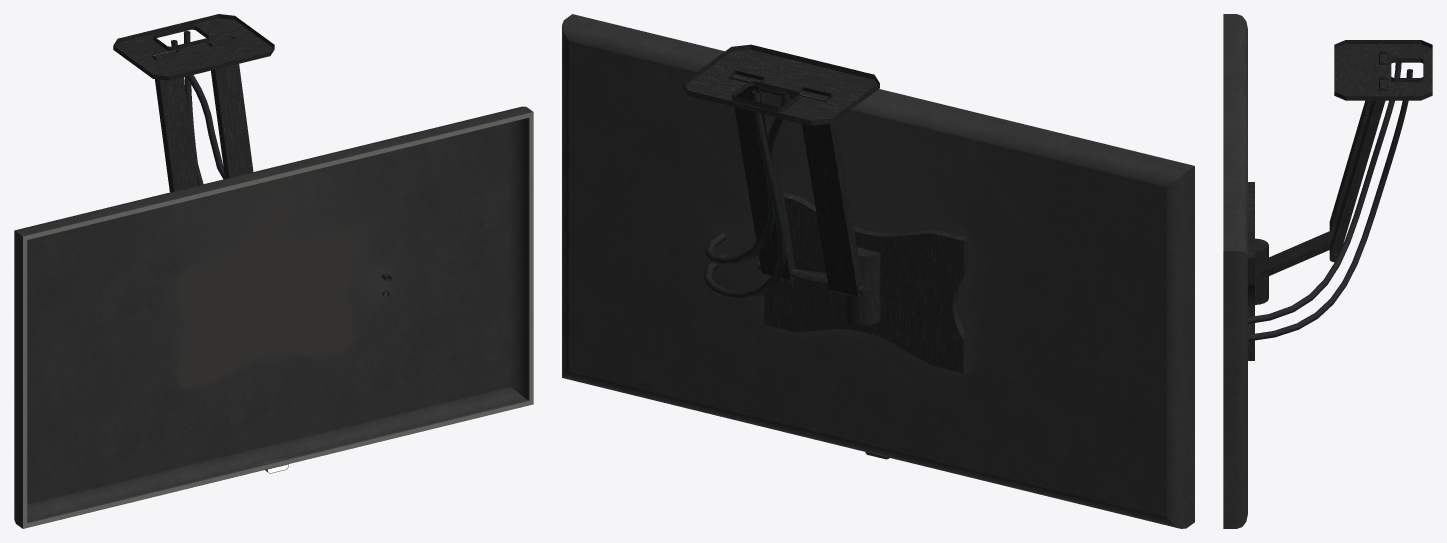
Rendered from SM_BowlingTV1.fbx.
The picture shows the model from 3 angles, left to right: view 1: azimuth 30°, elevation 25°; view 2: azimuth 150°, elevation 25°; view 3: azimuth 270°, elevation 25°; orthographic projection. The views are drawn at different scales.
Parts seen in each view (by area): view 1: SM_BowlingTV1_LOD0; view 2: SM_BowlingTV1_LOD0; view 3: SM_BowlingTV1_LOD0.
Part boxes in pixels (x1,y1,x2,y2): SM_BowlingTV1_LOD0: (14, 14, 533, 528); SM_BowlingTV1_LOD0: (562, 14, 1194, 528); SM_BowlingTV1_LOD0: (1223, 14, 1432, 528).
Bounding box in the file's own units: 117 × 43.62 × 80.14.
Materials: 1 (1 with a texture image).
